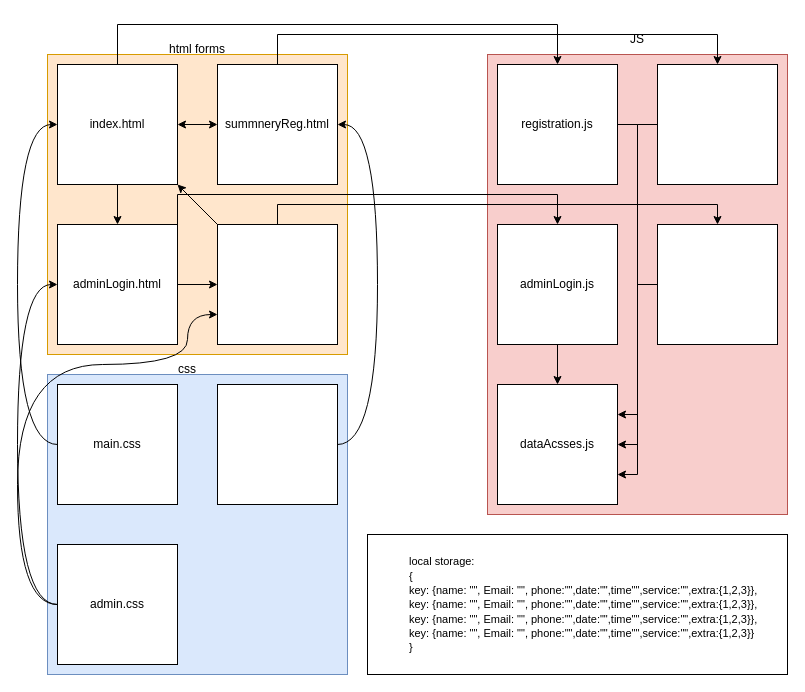
Some shapes in this 805 by 692 pixel diagram are drawn without their labels. The box of each missing label's shape, as (x1, y1, x2, y2) in pixels:
adminDashboard.html: (216, 224, 338, 344)
adminDashboard.js: (656, 224, 778, 344)
summery.css: (216, 384, 338, 504)
summery.js: (656, 64, 778, 184)
